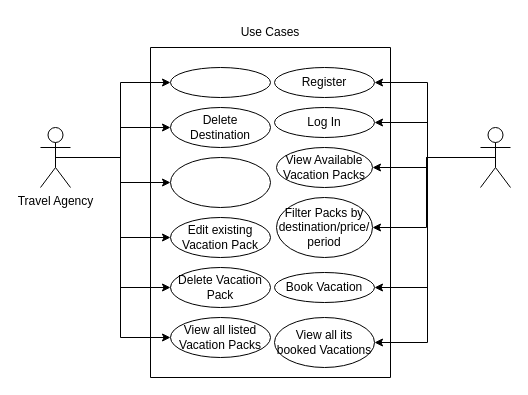
The diagram is 528 pixels wide and 395 high, and some of its shapes have lost their labels. Each missing label, with the centre of its shape:
"Add Destination" goes at pixel 220 82.
"Add Vacation Pack for specific destination" goes at pixel 220 182.
"User" goes at pixel 495 157.
